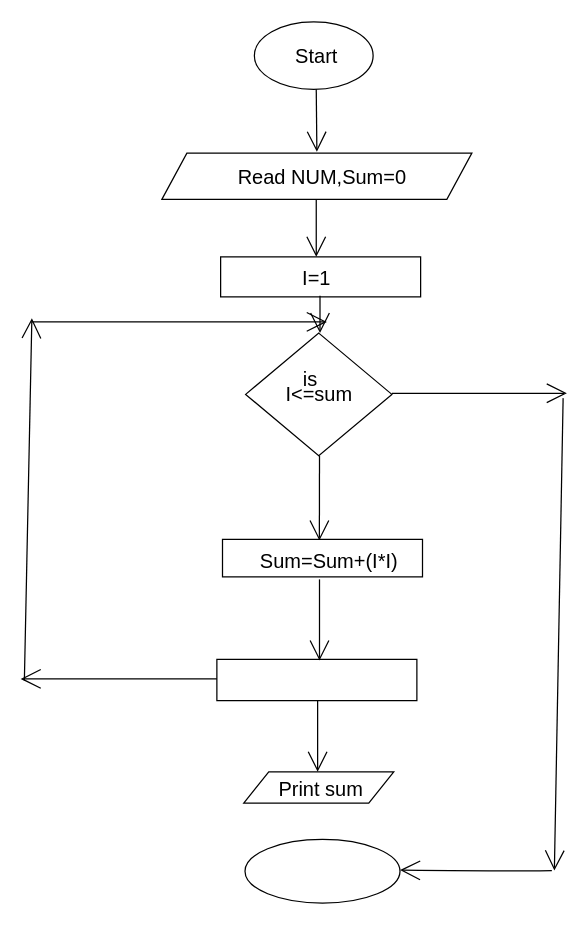
Some shapes in this 588 by 925 pixel diagram are drawn without their labels. Each missing label, with the centre of its shape:
I=I+1: (x=316, y=679)
Stop: (x=322, y=870)
